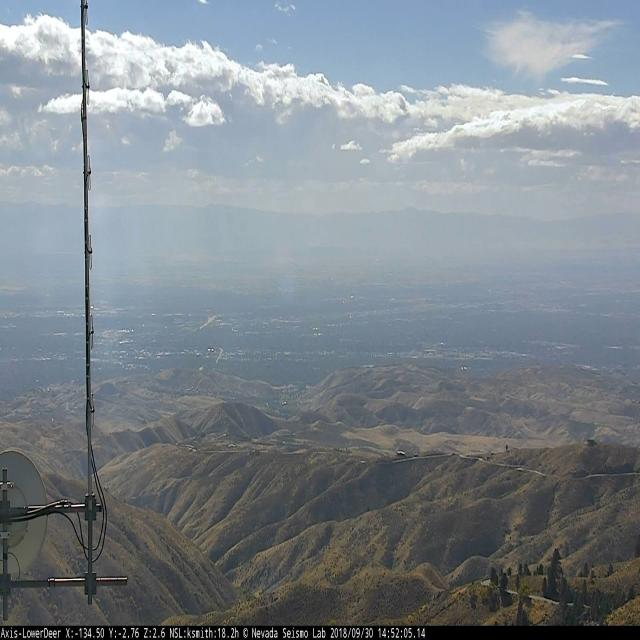smoke: (65, 404, 71, 411)
